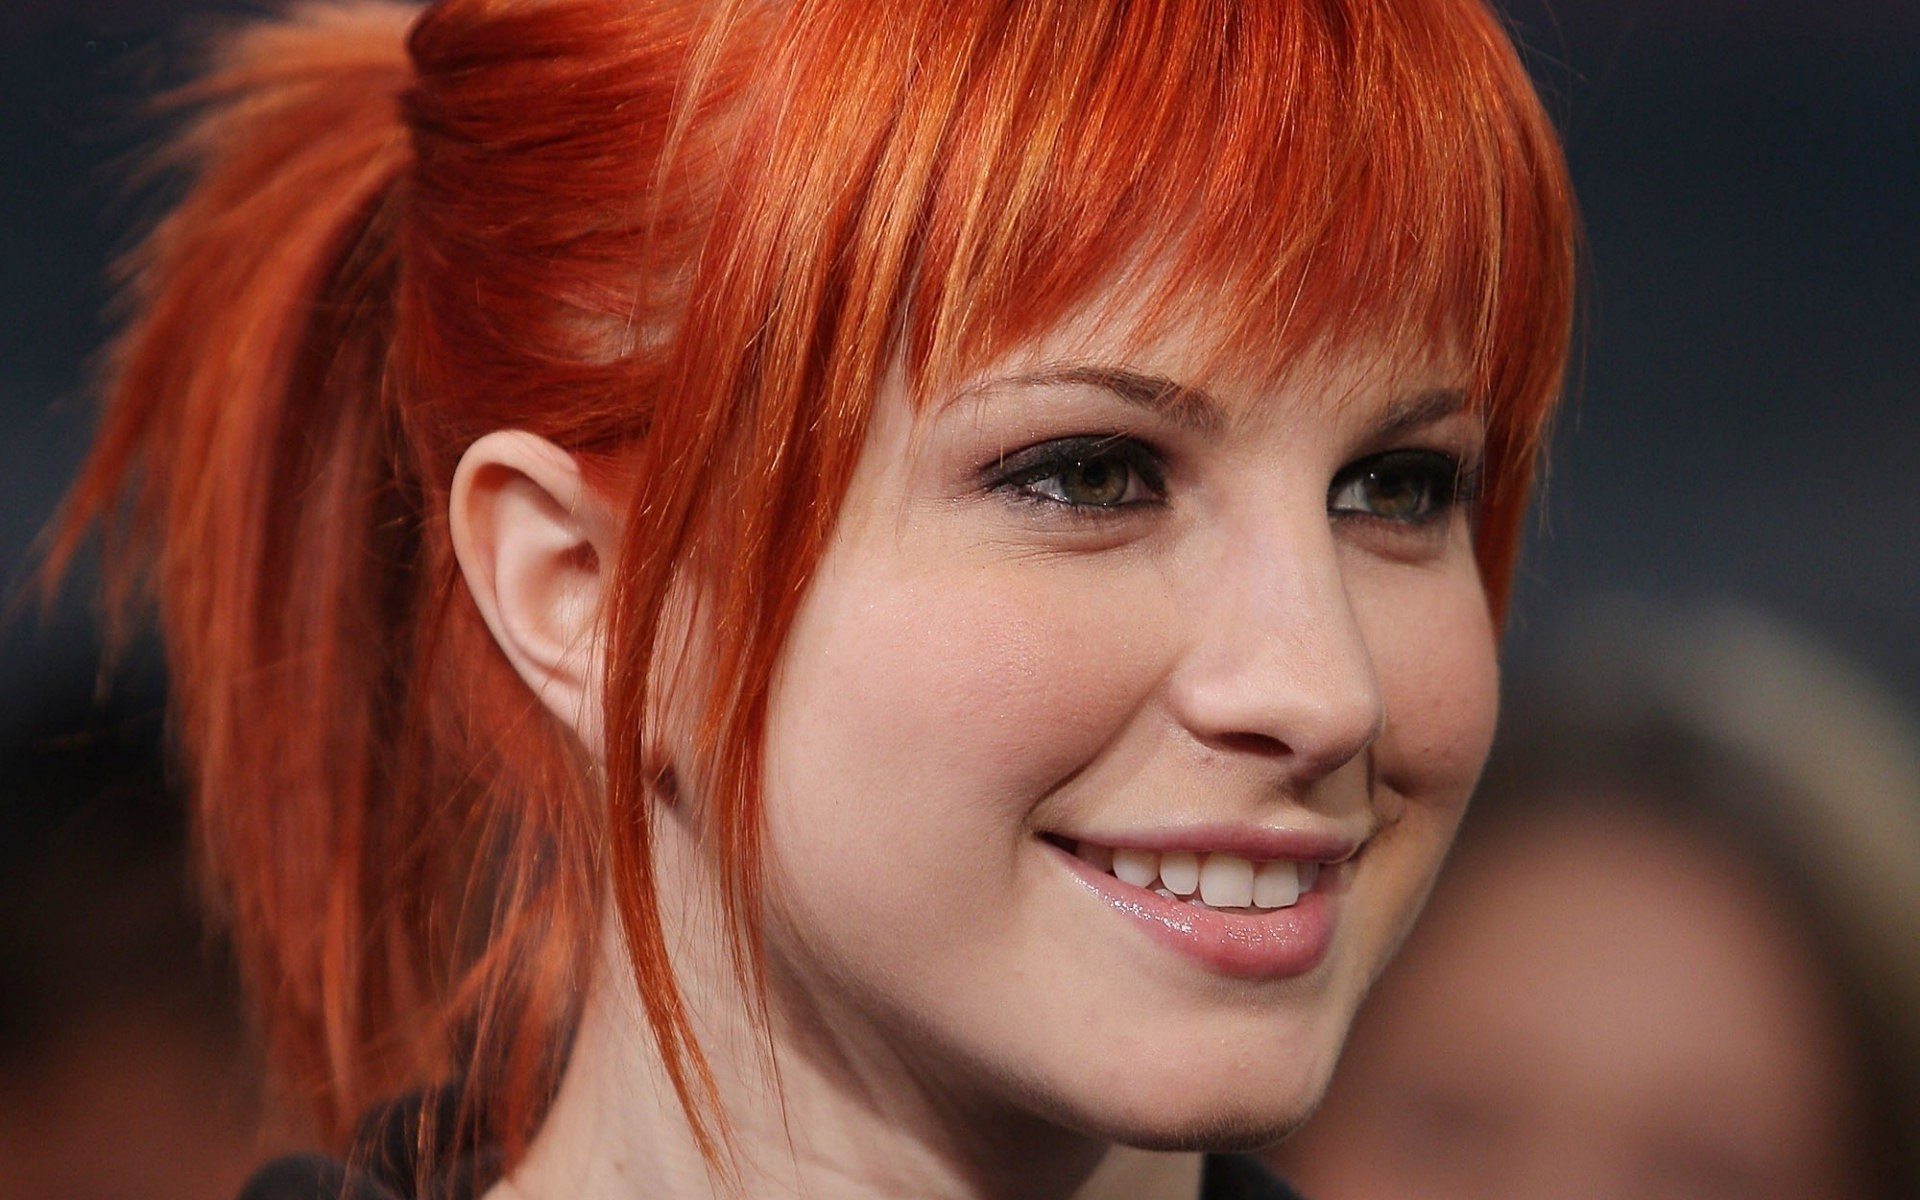face_no_mask: (384, 0, 1583, 1149)
